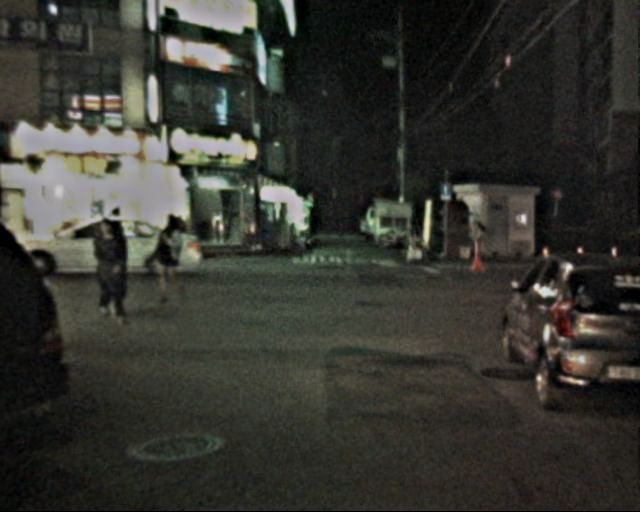person: (89, 218, 136, 327), (153, 213, 195, 304), (463, 209, 486, 277)
